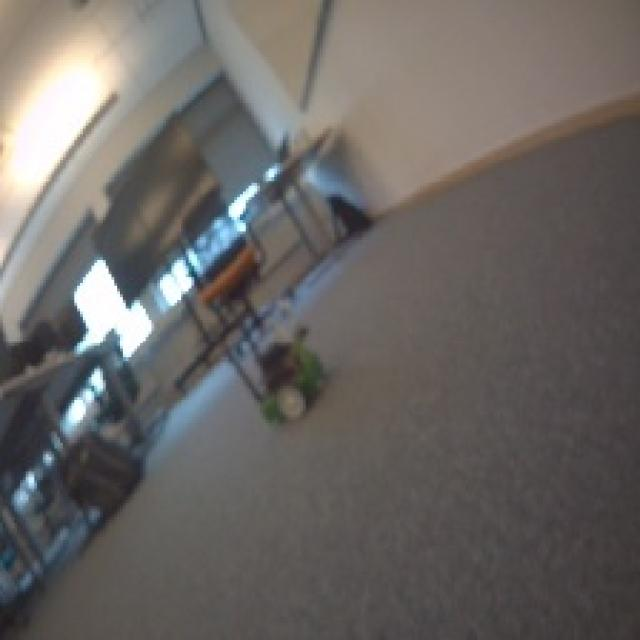robot: (245, 320, 331, 429)
